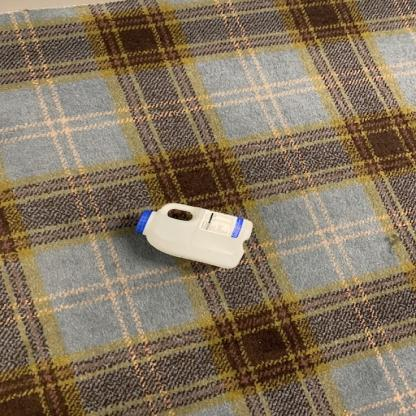trash: (133, 200, 257, 270)
